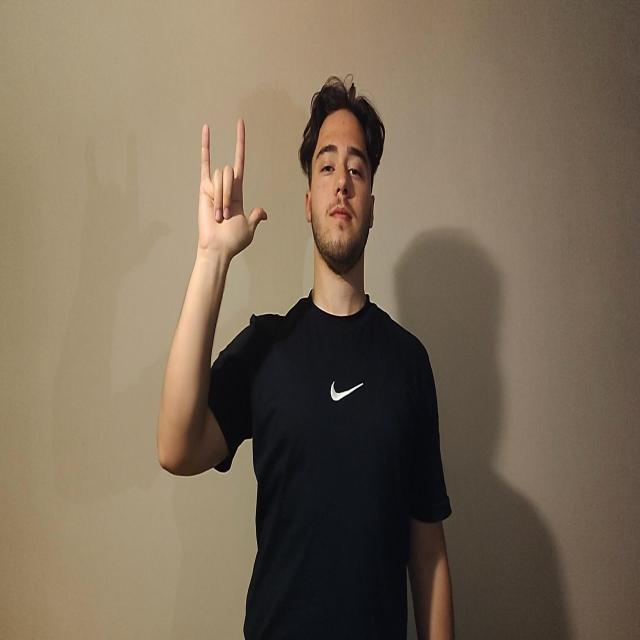iloveyou: (197, 116, 267, 264)
